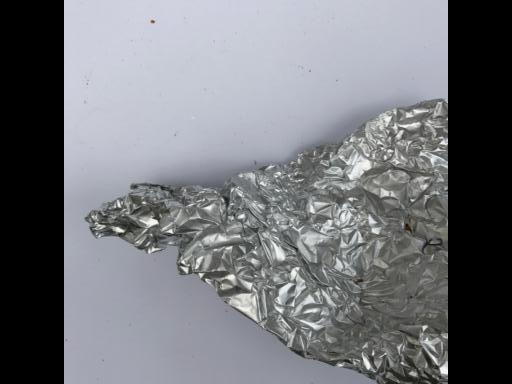metal: (82, 89, 445, 384)
